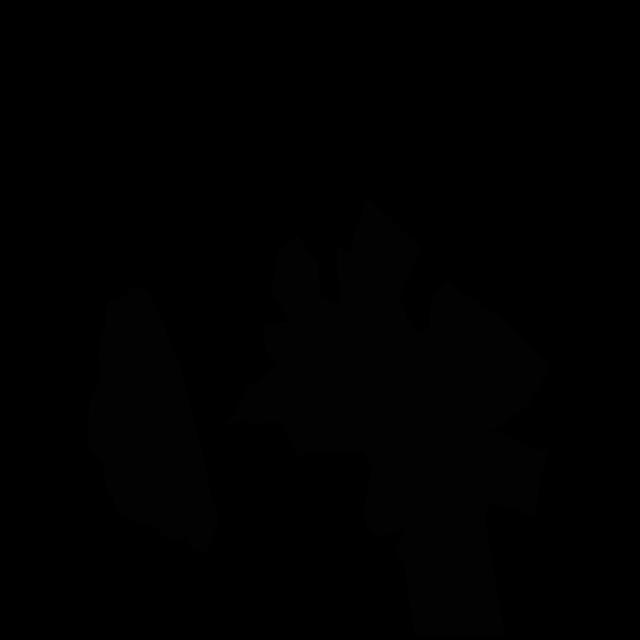cardboard: (220, 196, 550, 637), (87, 285, 219, 554)
